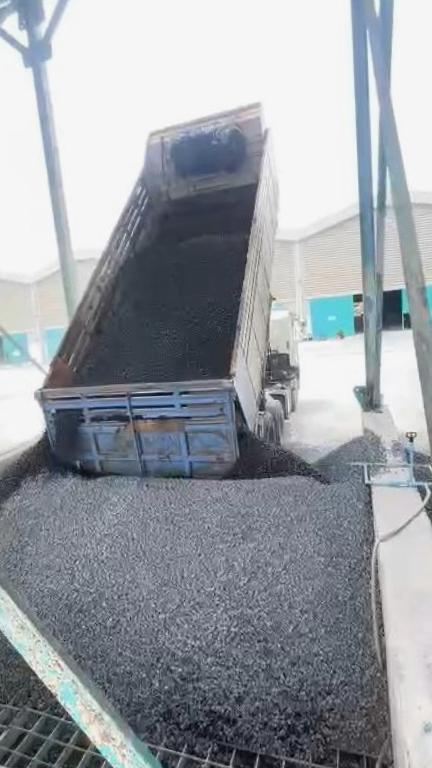gravel: (0, 424, 388, 755), (81, 202, 251, 384), (0, 549, 41, 704), (423, 484, 432, 563)
